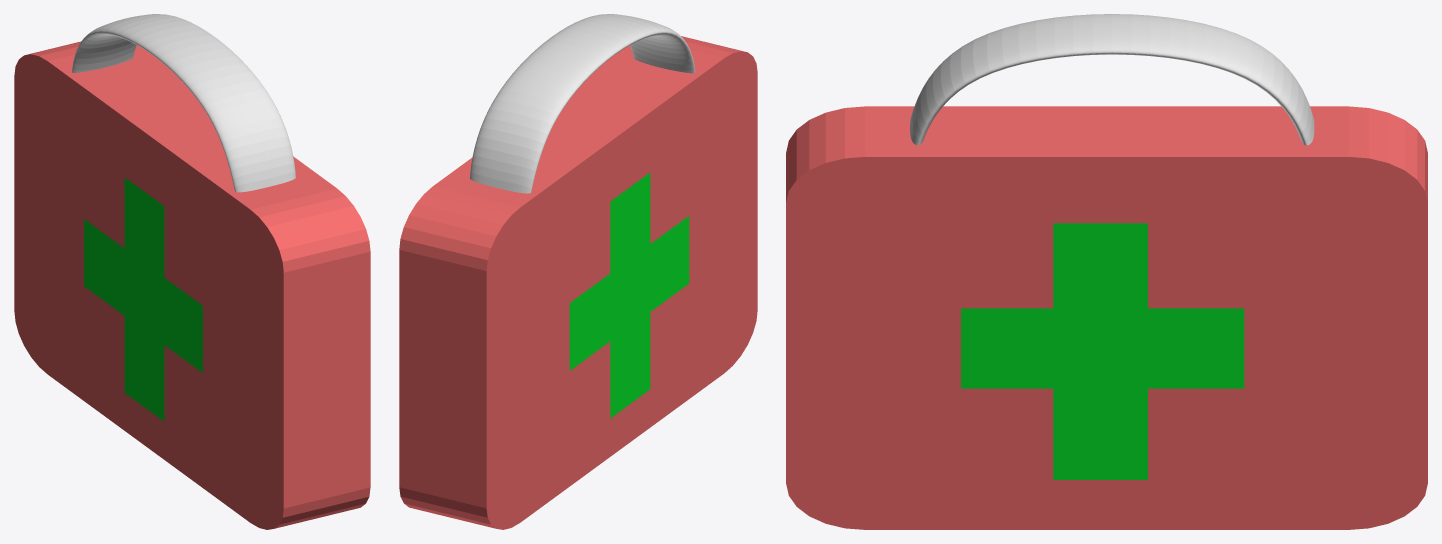
File: First-aid kit.fbx
The picture shows the model from 3 angles, left to right: view 1: azimuth 30°, elevation 25°; view 2: azimuth 150°, elevation 25°; view 3: azimuth 270°, elevation 25°; orthographic projection. The views are drawn at different scales.
Parts seen in each view (by area): view 1: 평면.001; view 2: 평면.001; view 3: 평면.001.
Boxes of the visible parts, x1,y1,x2,y2 form: 평면.001: [14, 14, 370, 529]; 평면.001: [399, 14, 757, 529]; 평면.001: [786, 14, 1427, 529].
Bounding box in the file's own units: 52.42 × 202 × 247.
